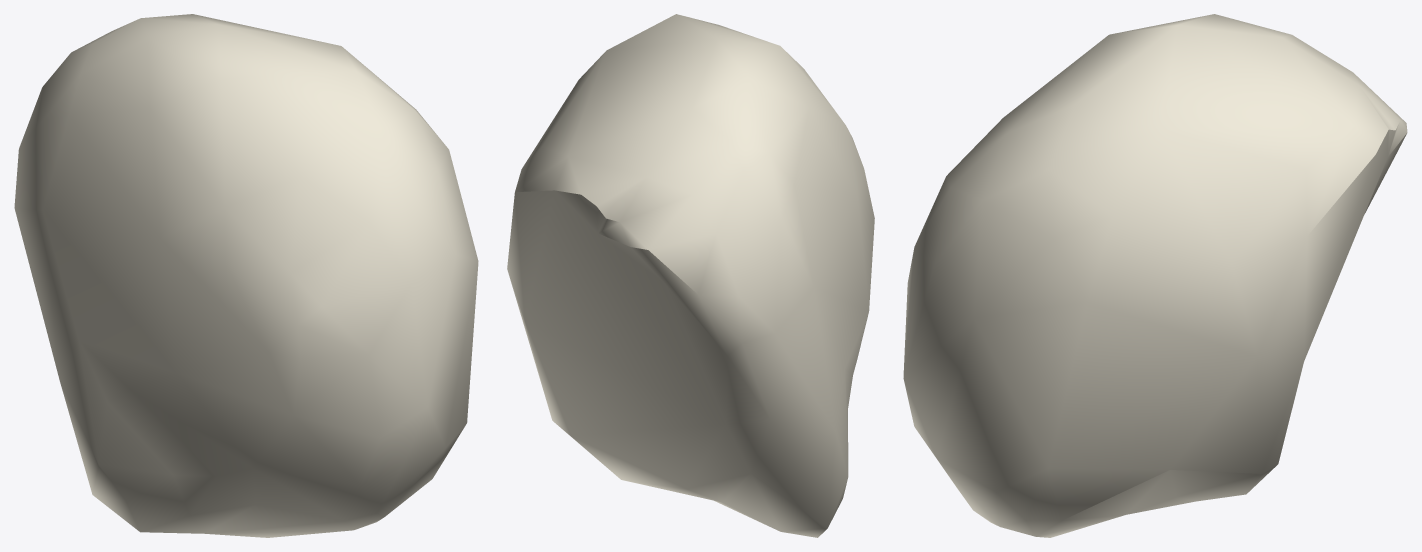
File: fma24442_fj3276.glb
3 renders of one model, left to right at view 1: azimuth 30°, elevation 25°; view 2: azimuth 150°, elevation 25°; view 3: azimuth 270°, elevation 25°, orthographic. The views are drawn at different scales.
Parts seen in each view (by area): view 1: FMA24442_FJ3276; view 2: FMA24442_FJ3276; view 3: FMA24442_FJ3276.
Part boxes in pixels (left/top/right/bottom): FMA24442_FJ3276: left=14, top=14, right=478, bottom=537; FMA24442_FJ3276: left=507, top=14, right=874, bottom=537; FMA24442_FJ3276: left=903, top=14, right=1407, bottom=537.
Bounding box in the file's own units: 0.00819 × 0.0116 × 0.0106.
